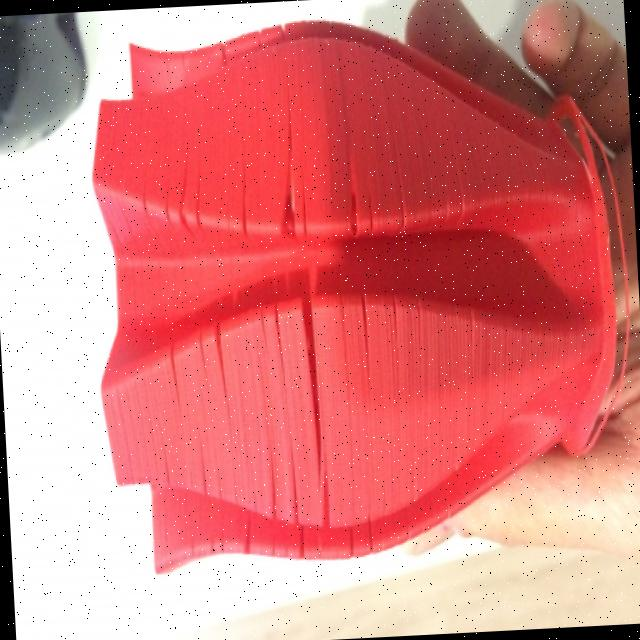cracks: (274, 162, 358, 465), (156, 316, 237, 402), (272, 500, 342, 580), (158, 151, 216, 238)
